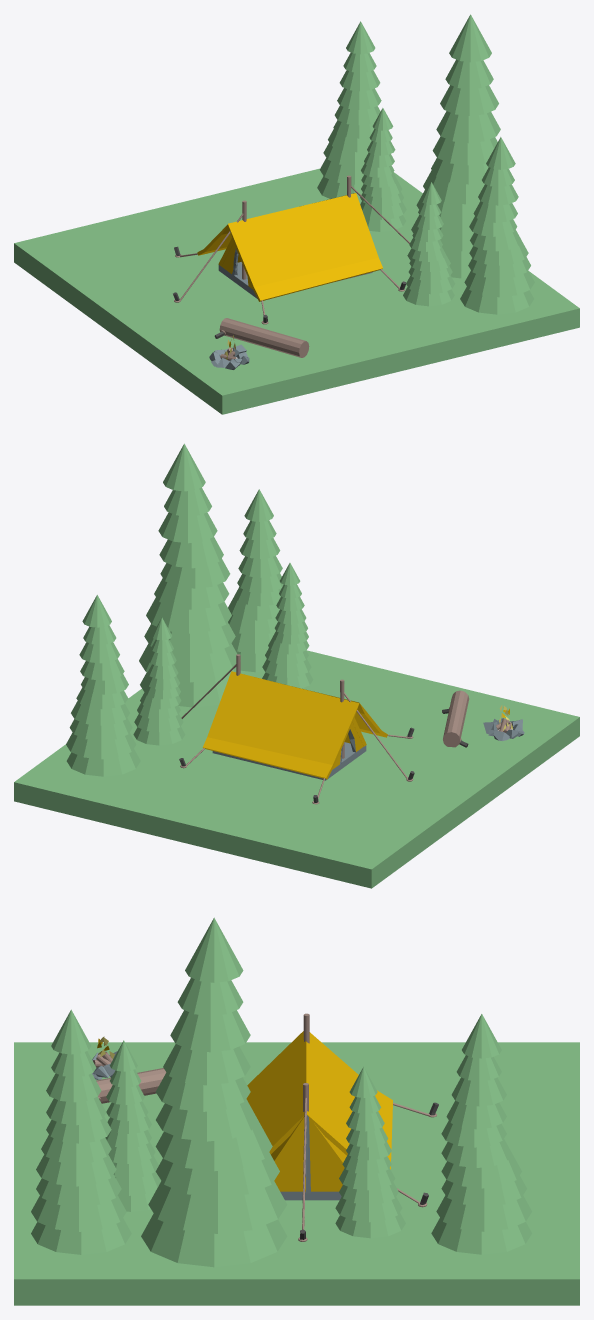
3 views of the same model, one above another, from view 1: azimuth 30°, elevation 25°; view 2: azimuth 150°, elevation 25°; view 3: azimuth 270°, elevation 25° (orthographic). The views are drawn at different scales.
Parts seen in each view (by area): view 1: mesh_907185404; view 2: mesh_907185404; view 3: mesh_907185404.
Part boxes in pixels (x1=…): mesh_907185404: x1=14, y1=14, x2=579, y2=414; mesh_907185404: x1=14, y1=443, x2=579, y2=888; mesh_907185404: x1=14, y1=917, x2=579, y2=1305.
Bounding box in the file's own units: 6.3 × 4.49 × 6.32.
